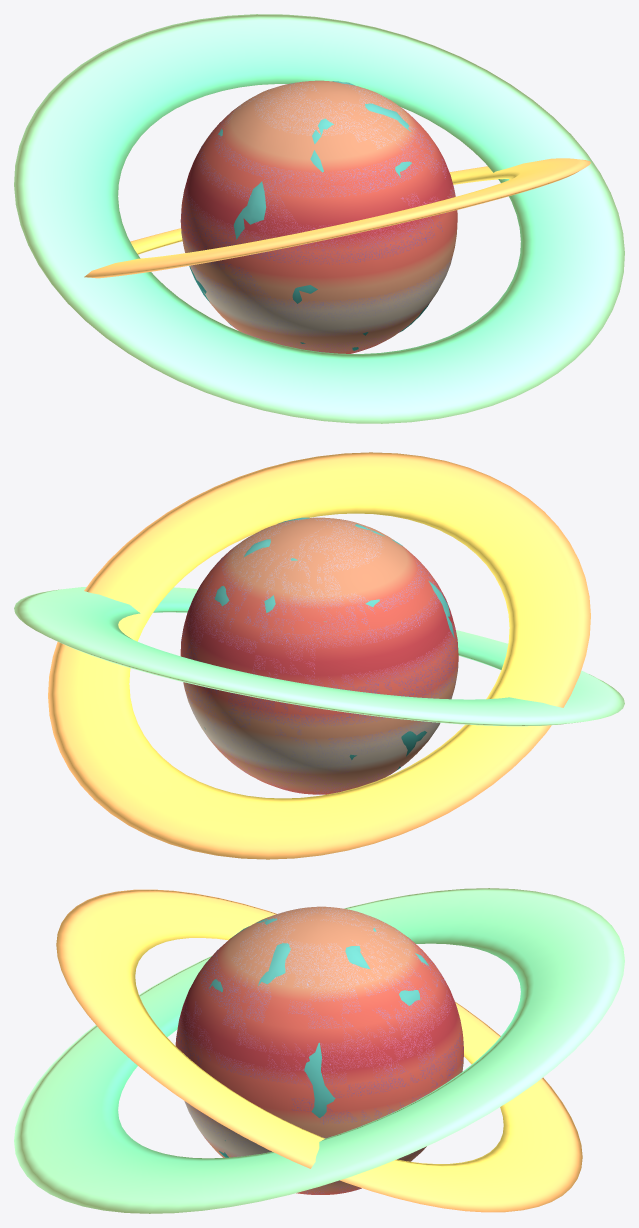
The model's file is planetas-cosmos-DfaLVHsY.glb.
The picture shows the model from 3 angles, top to bottom: view 1: azimuth 30°, elevation 25°; view 2: azimuth 150°, elevation 25°; view 3: azimuth 270°, elevation 25°; orthographic projection. The views are drawn at different scales.
Visible parts, largest first — view 1: Anillo A, Planeta A, Anillo C, Planeta C, Planeta B; view 2: Anillo C, Planeta A, Anillo A, Planeta C, Planeta B; view 3: Anillo A, Planeta A, Anillo C, Planeta C, Planeta B.
Boxes of the visible parts, <box> form: Anillo A: <box>14,14,624,423</box>; Planeta A: <box>180,80,457,353</box>; Anillo C: <box>84,158,590,278</box>; Planeta C: <box>181,81,454,351</box>; Planeta B: <box>189,81,429,350</box>; Anillo C: <box>48,452,590,859</box>; Planeta A: <box>180,517,458,794</box>; Anillo A: <box>14,586,624,726</box>; Planeta C: <box>181,517,457,794</box>; Planeta B: <box>204,517,454,770</box>; Anillo A: <box>14,888,624,1213</box>; Planeta A: <box>175,906,463,1194</box>; Anillo C: <box>56,889,582,1212</box>; Planeta C: <box>177,907,463,1194</box>; Planeta B: <box>209,918,428,1157</box>.
Bounding box in the file's own units: 4.46 × 2 × 4.24.
